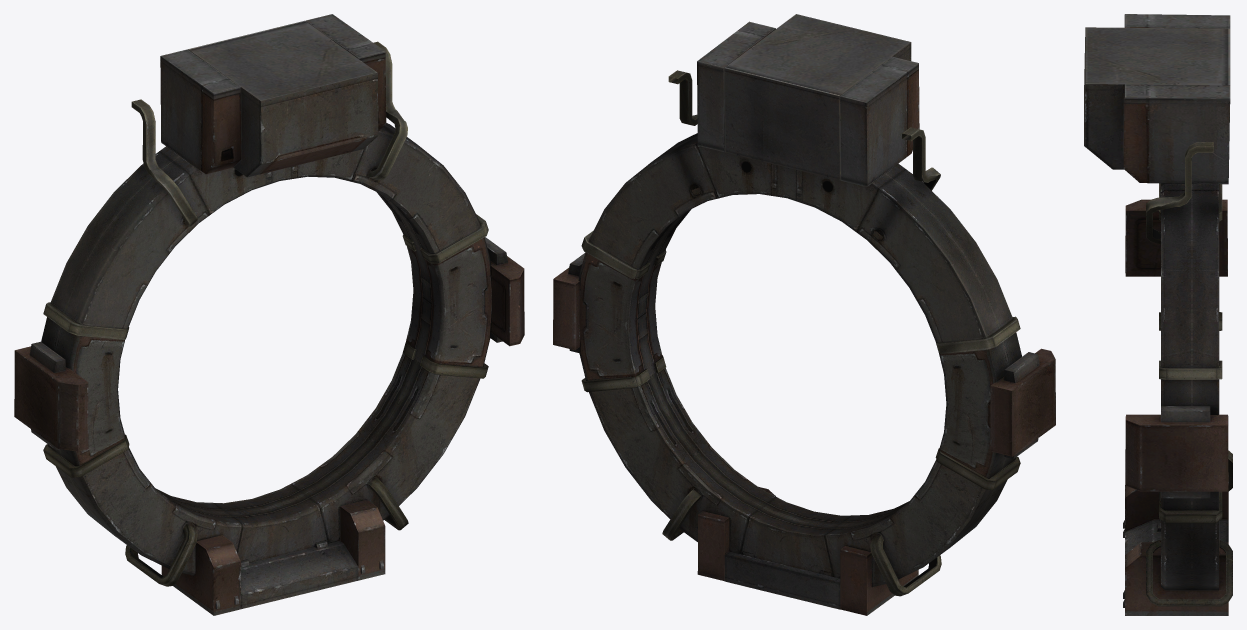
Rendered from slidedoor_airlock_frame.dae.
3 views of the same model, side by side, from view 1: azimuth 30°, elevation 25°; view 2: azimuth 150°, elevation 25°; view 3: azimuth 270°, elevation 25° (orthographic).
Parts seen in each view (by area): view 1: frame; view 2: frame; view 3: frame.
Part boxes in pixels (x1,y1,x2,y2): frame: (14,14,524,615); frame: (553,14,1055,615); frame: (1084,14,1232,615).
Size of the model in its own units: 3.68 by 3.94 by 1.03.
